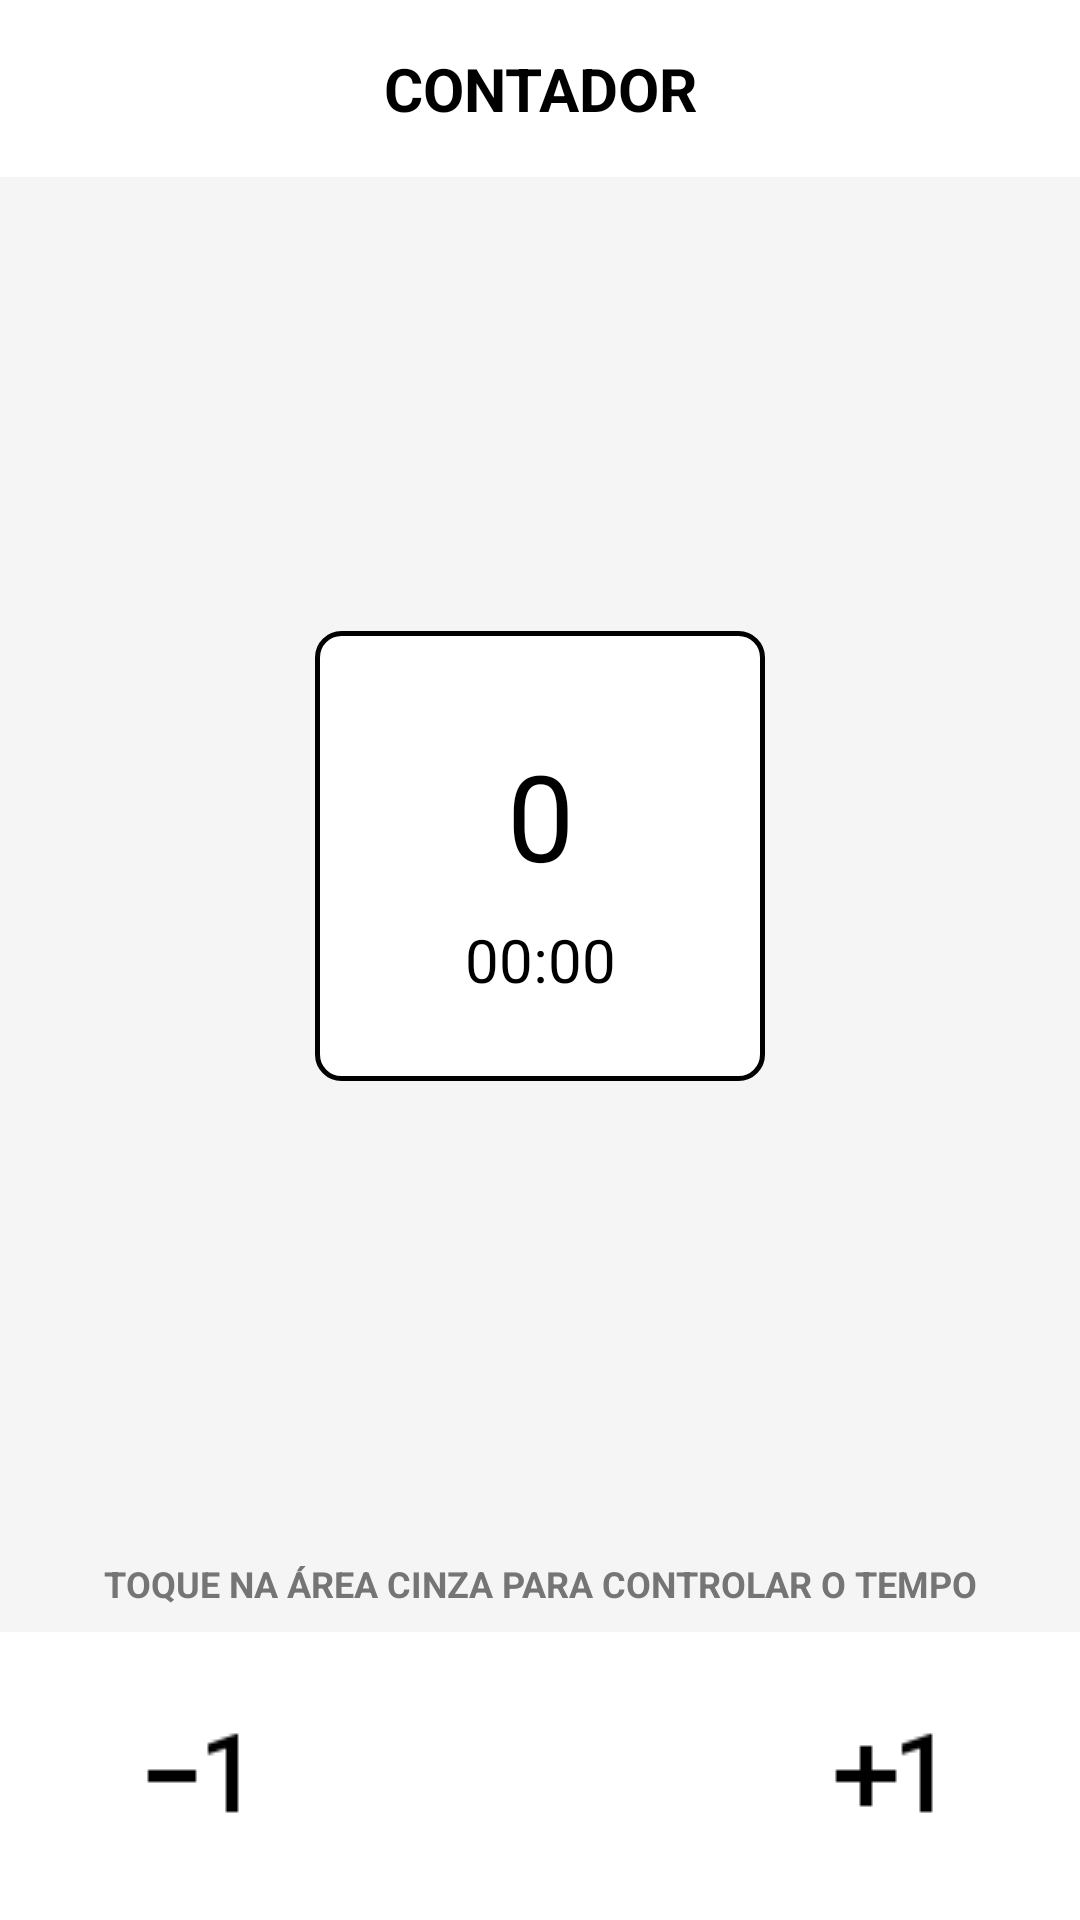

Locate icon controls on the screen. Image size 1080 × 1920, boxes as region(x1, y1, x2, y2).
exposure minus: region(147, 1733, 239, 1813)
exposure plus: region(835, 1733, 933, 1813)
